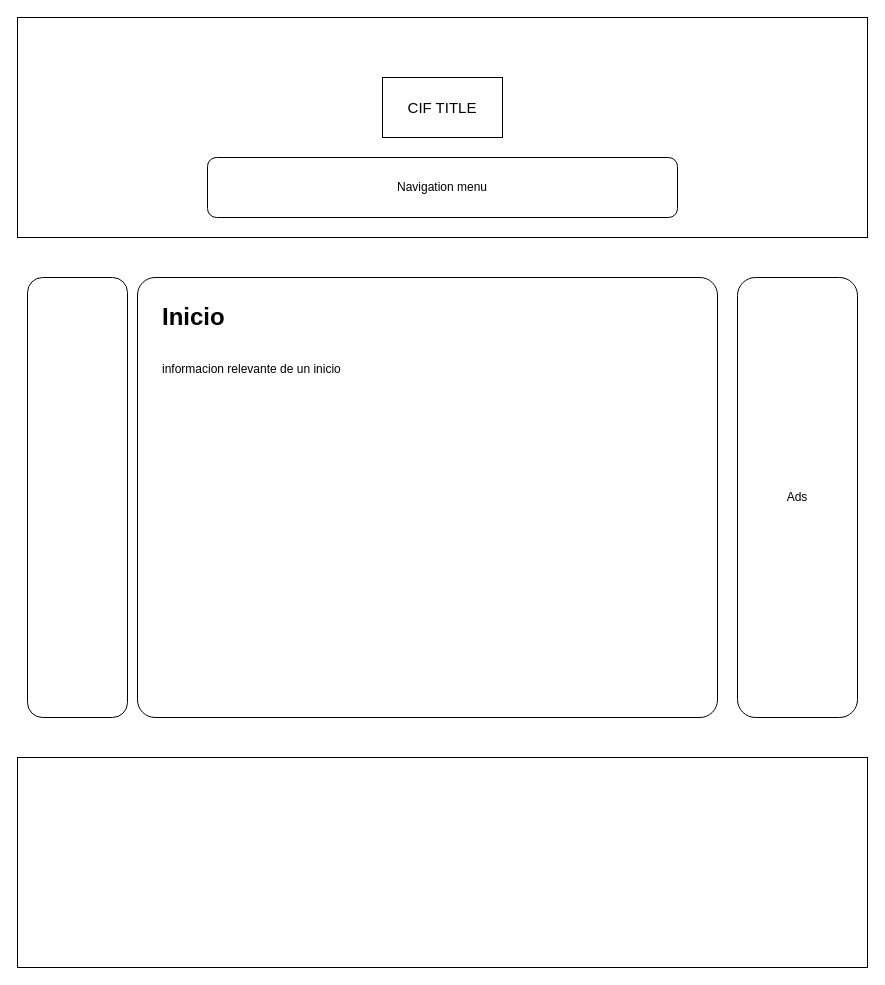
Image size: 885x985. Some labels were removed from this diagram. Here are the shapes that lost their labels. From the top down, the centre of each, then its label:
pixel 77 497: Players online - Pepito123 - [CIF]Admin
pixel 442 862: Footer
